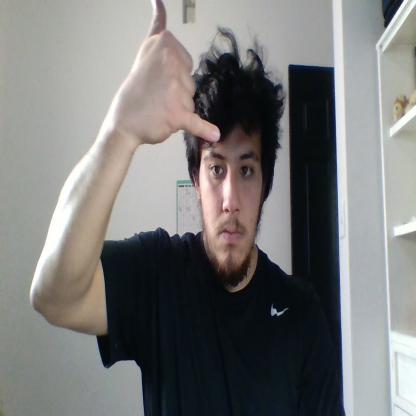Y: (133, 0, 220, 145)
